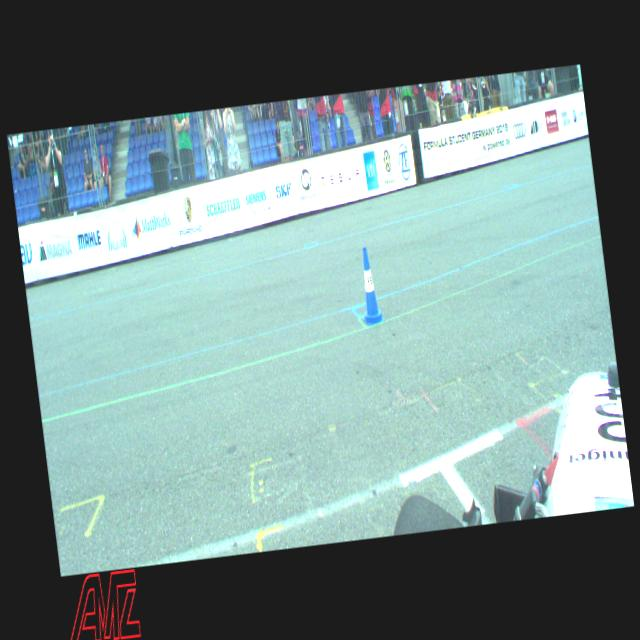blue_cone: (354, 245, 385, 326)
